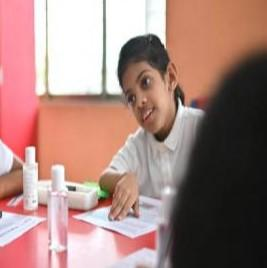cheating: (107, 28, 193, 141)
